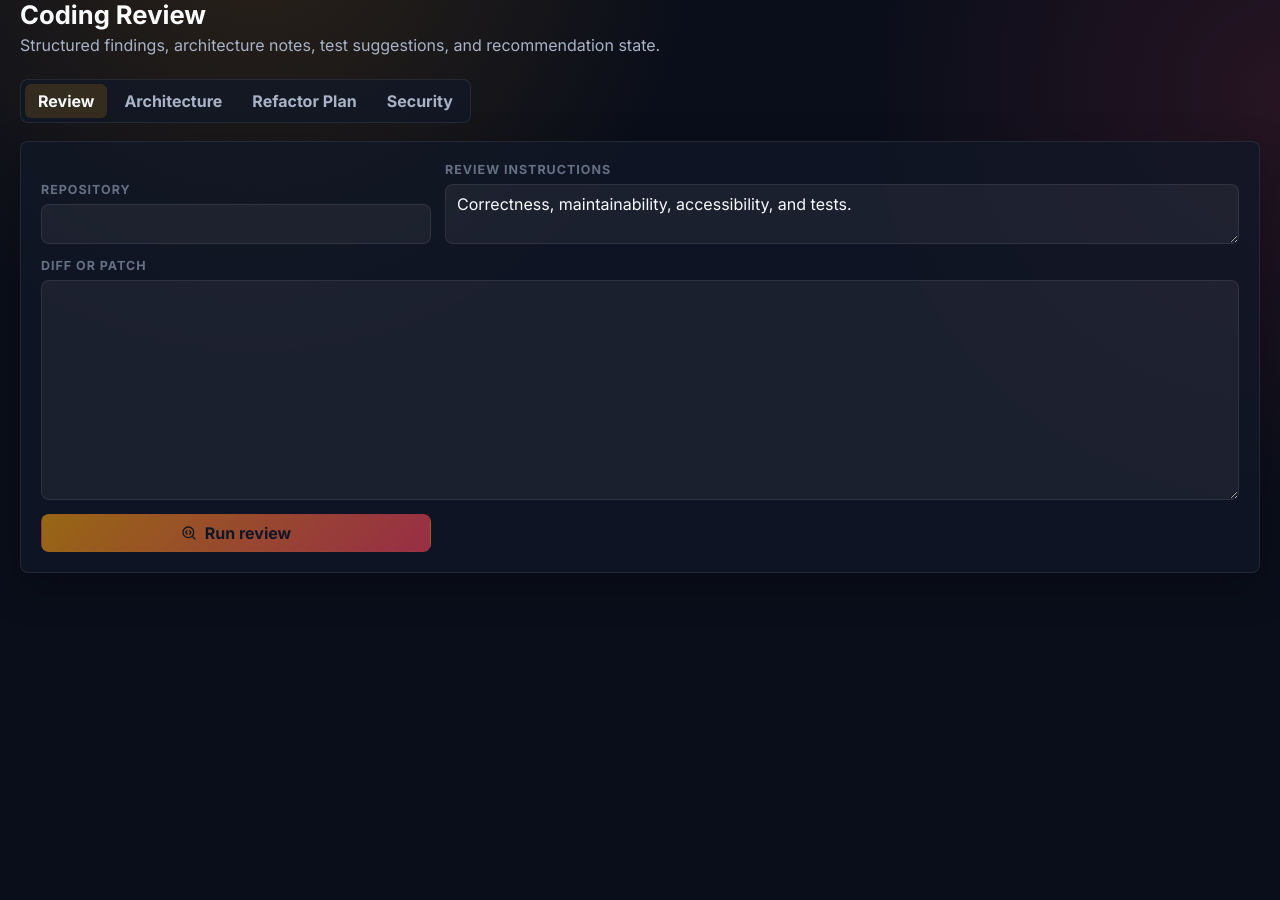
Scenario: PR3 tool pages › submits the Architecture coding variant
Click the button "Architecture" at (173,101), box [111,84,235,118]
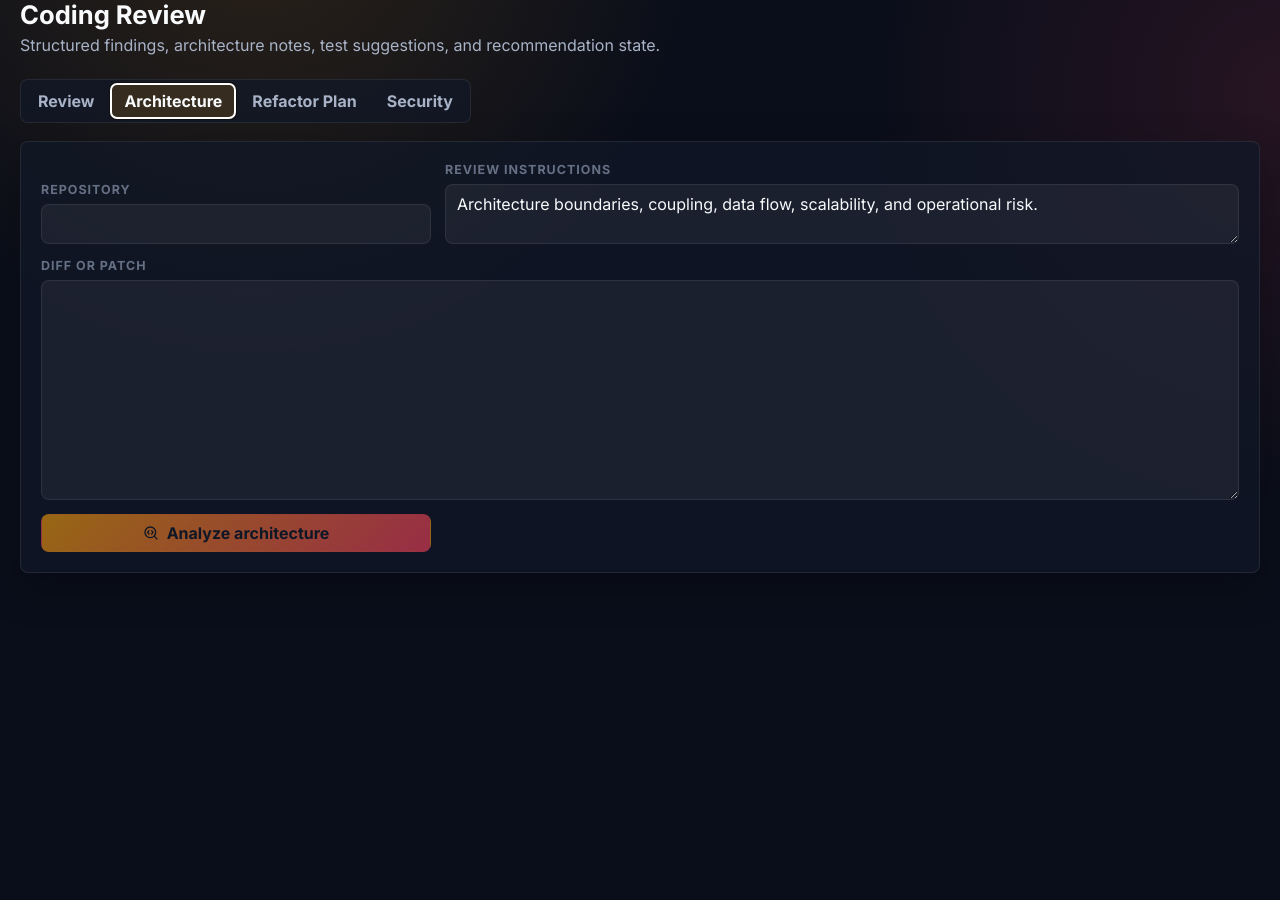
Type "diff --git a/file.ts b/file.ts" into the text box labelled "Diff or patch" at (640,390), box [41,280,1239,500]
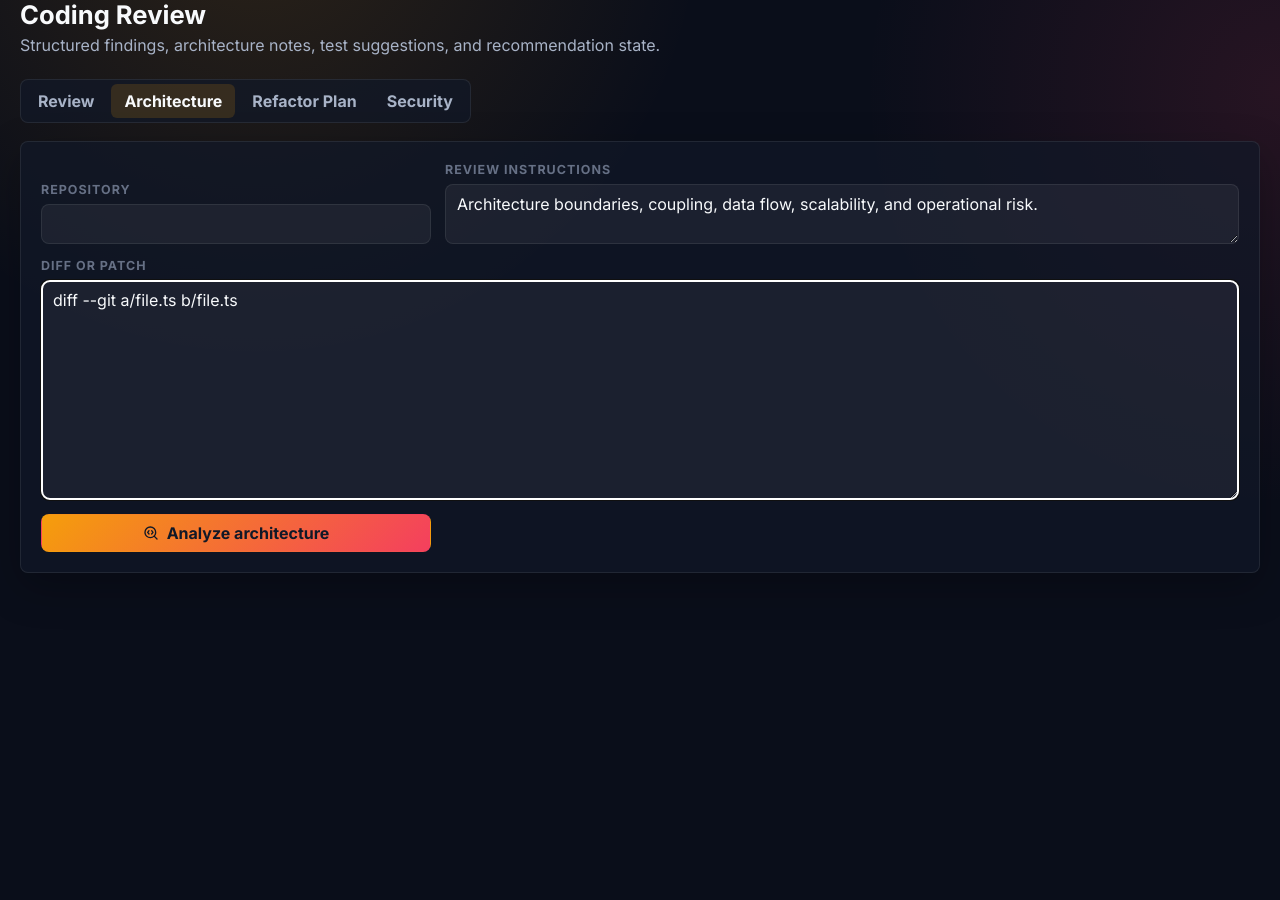
Click the button "Analyze architecture" at (236,533), box [41,514,431,552]
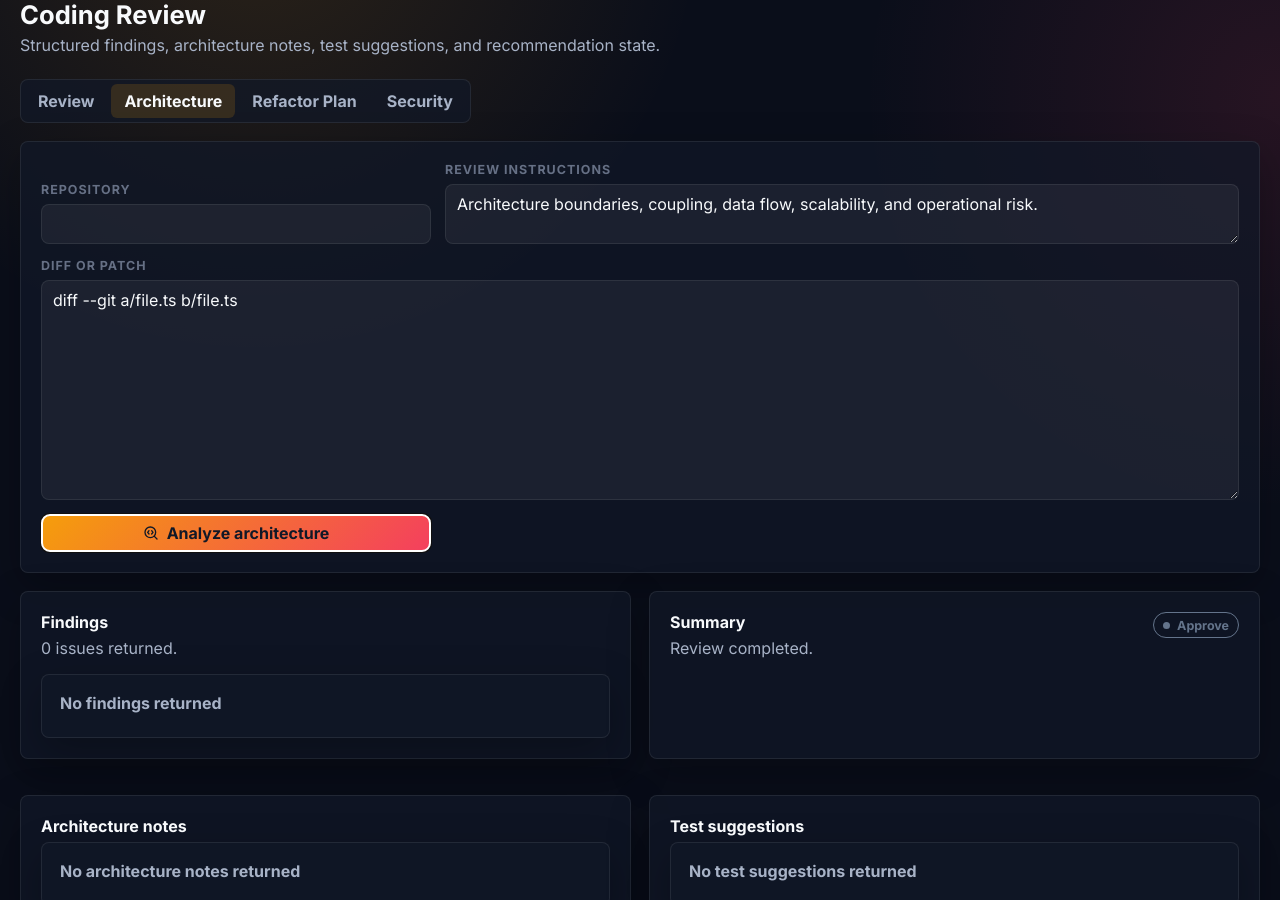
Now the text "approve" is shown, box [1153,612,1239,638]
